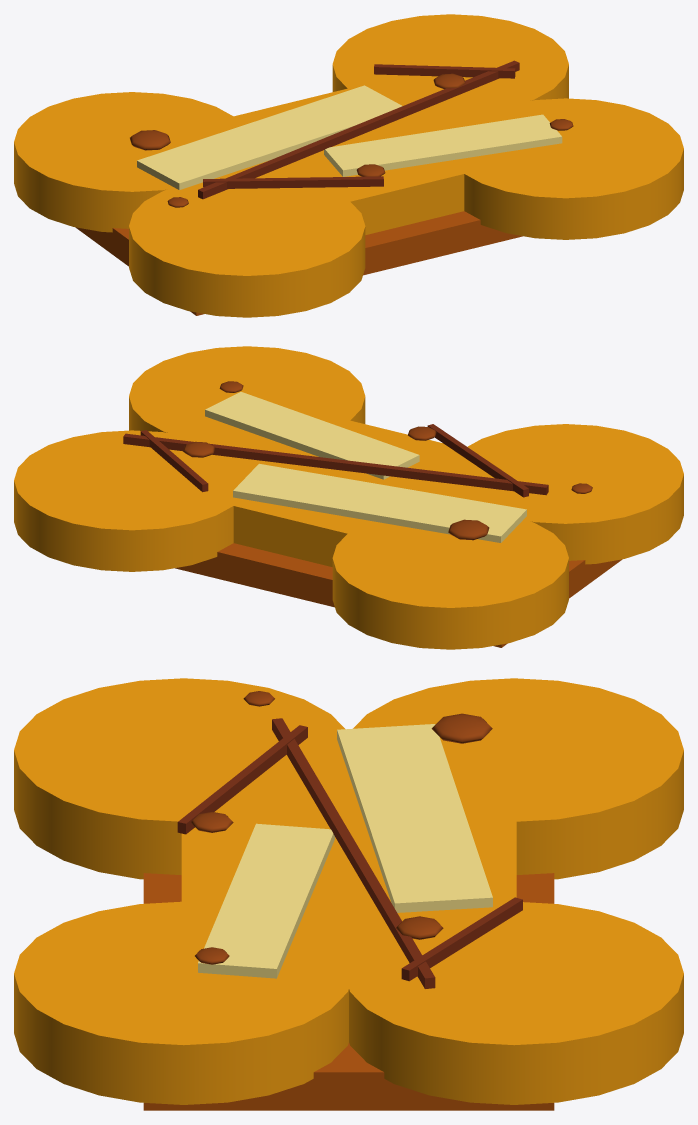
Rendered from toy_crumble_cookie_tile.glb.
3 renders of one model, top to bottom at view 1: azimuth 30°, elevation 25°; view 2: azimuth 150°, elevation 25°; view 3: azimuth 270°, elevation 25°, orthographic. The views are drawn at different scales.
Parts seen in each view (by area): view 1: solid_4, solid_5, solid_2, solid_1, solid_3, solid_7, solid_8, solid_6, solid_9, solid_10, solid_11, solid_12; view 2: solid_3, solid_2, solid_4, solid_5, solid_1, solid_7, solid_8, solid_6, solid_9, solid_10, solid_11, solid_12; view 3: solid_3, solid_5, solid_4, solid_2, solid_1, solid_7, solid_8, solid_6, solid_9, solid_10, solid_11, solid_12 (+2 smaller).
Boxes of the visible parts, left/top/right/bottom form: solid_4: left=129, top=176, right=365, bottom=317; solid_5: left=451, top=98, right=683, bottom=239; solid_2: left=14, top=92, right=233, bottom=232; solid_1: left=177, top=63, right=525, bottom=234; solid_3: left=332, top=14, right=568, bottom=114; solid_7: left=137, top=85, right=402, bottom=189; solid_8: left=324, top=114, right=562, bottom=176; solid_6: left=75, top=211, right=522, bottom=315; solid_9: left=198, top=60, right=519, bottom=199; solid_10: left=203, top=176, right=383, bottom=188; solid_11: left=374, top=64, right=515, bottom=78; solid_12: left=130, top=130, right=170, bottom=150; solid_3: left=14, top=430, right=248, bottom=571; solid_2: left=332, top=519, right=568, bottom=649; solid_4: left=448, top=424, right=683, bottom=564; solid_5: left=129, top=346, right=365, bottom=446; solid_1: left=170, top=399, right=537, bottom=566; solid_7: left=233, top=463, right=526, bottom=542; solid_8: left=205, top=392, right=419, bottom=479; solid_6: left=175, top=543, right=622, bottom=647; solid_9: left=123, top=433, right=548, bottom=495; solid_10: left=427, top=424, right=528, bottom=497; solid_11: left=140, top=430, right=208, bottom=492; solid_12: left=448, top=519, right=489, bottom=540; solid_3: left=345, top=902, right=683, bottom=1104; solid_5: left=14, top=901, right=352, bottom=1104; solid_4: left=14, top=678, right=346, bottom=879; solid_2: left=353, top=678, right=683, bottom=879; solid_1: left=181, top=748, right=516, bottom=975; solid_7: left=337, top=724, right=492, bottom=912; solid_8: left=198, top=823, right=334, bottom=978; solid_6: left=143, top=873, right=554, bottom=1110; solid_9: left=272, top=718, right=435, bottom=988; solid_10: left=177, top=725, right=307, bottom=834; solid_11: left=401, top=897, right=522, bottom=981; solid_12: left=431, top=713, right=492, bottom=743.
Bounding box in the file's own units: 3.68 × 0.5664 × 2.84.
